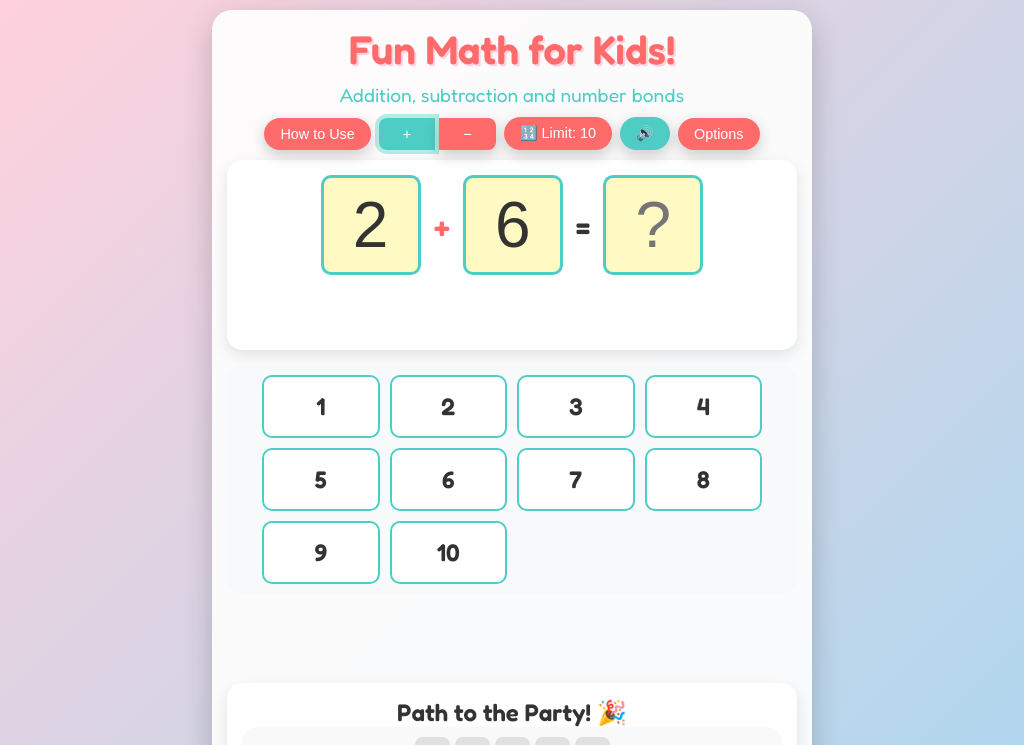
Scenario: App.vue › offers every limit preset in the popup
Click the button with class "action-btn" showing "🔢 Limit: 10". click: (558, 134)
box: [504, 117, 612, 150]
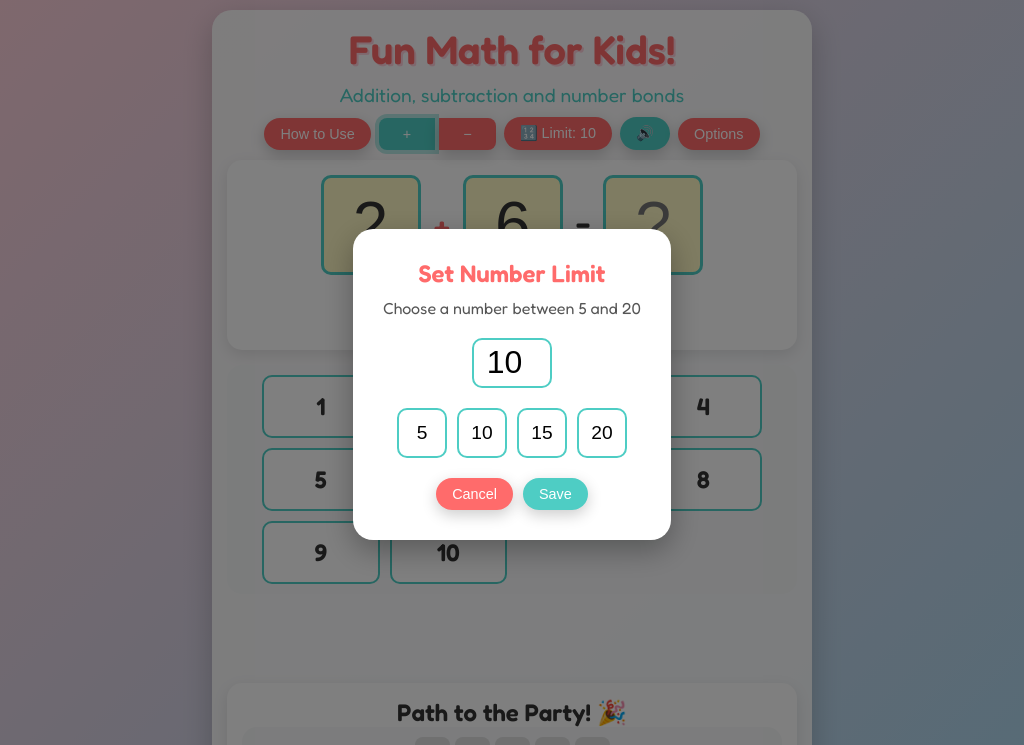
Check: the elements with class "limit-preset-btn" read "5", "10", "15", "20", in this order
Click the button with class "limit-preset-btn" showing "5". click: (422, 432)
box: [397, 408, 447, 458]
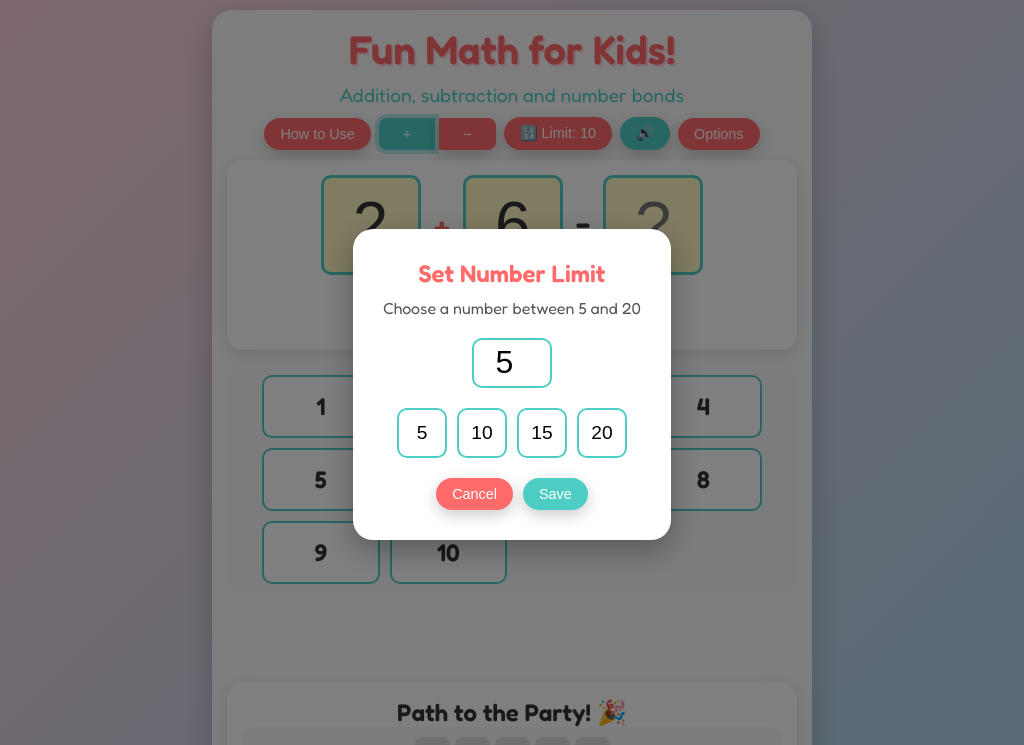
Check: the number field holds "5", box [472, 338, 552, 388]
Click the button with class "limit-preset-btn" showing "10". click: (482, 432)
box: [457, 408, 507, 458]
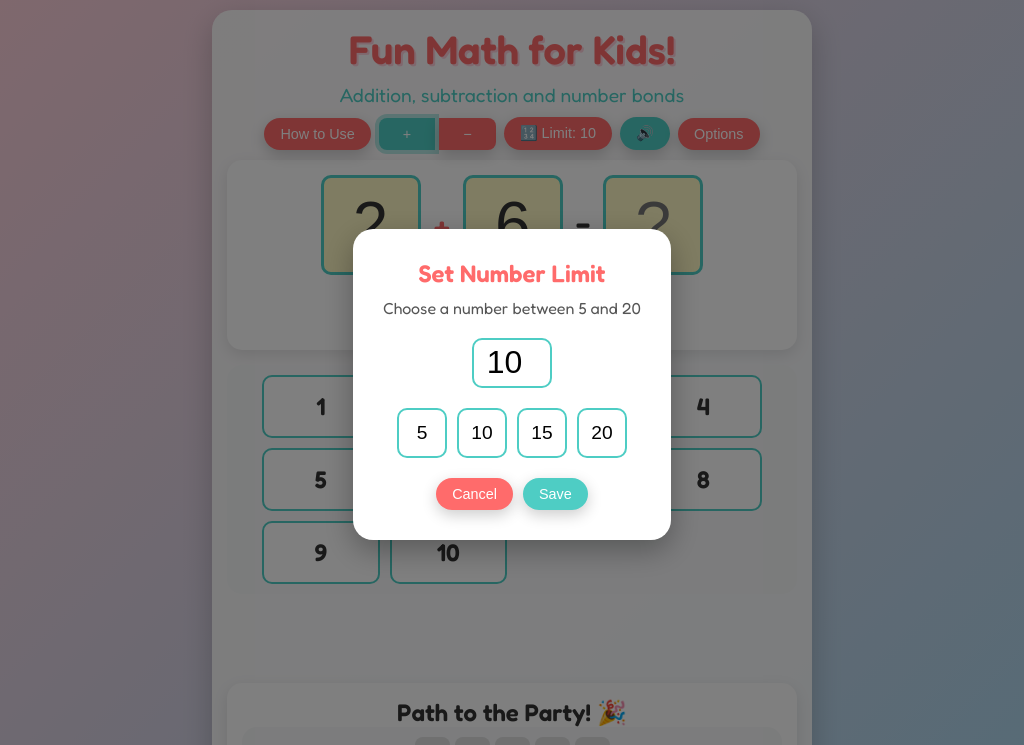
Check: the number field holds "10", box [472, 338, 552, 388]
Click the button with class "limit-preset-btn" showing "15". click: (542, 432)
box: [517, 408, 567, 458]
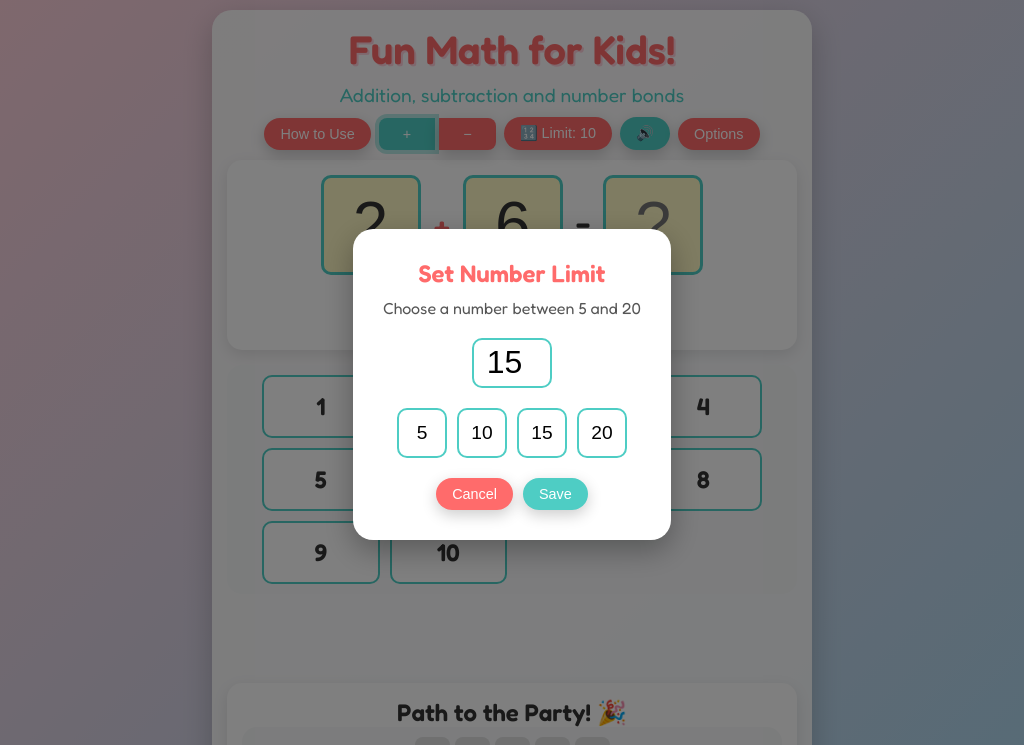
Check: the number field holds "15", box [472, 338, 552, 388]
Click the button with class "limit-preset-btn" showing "20". click: (602, 432)
box: [577, 408, 627, 458]
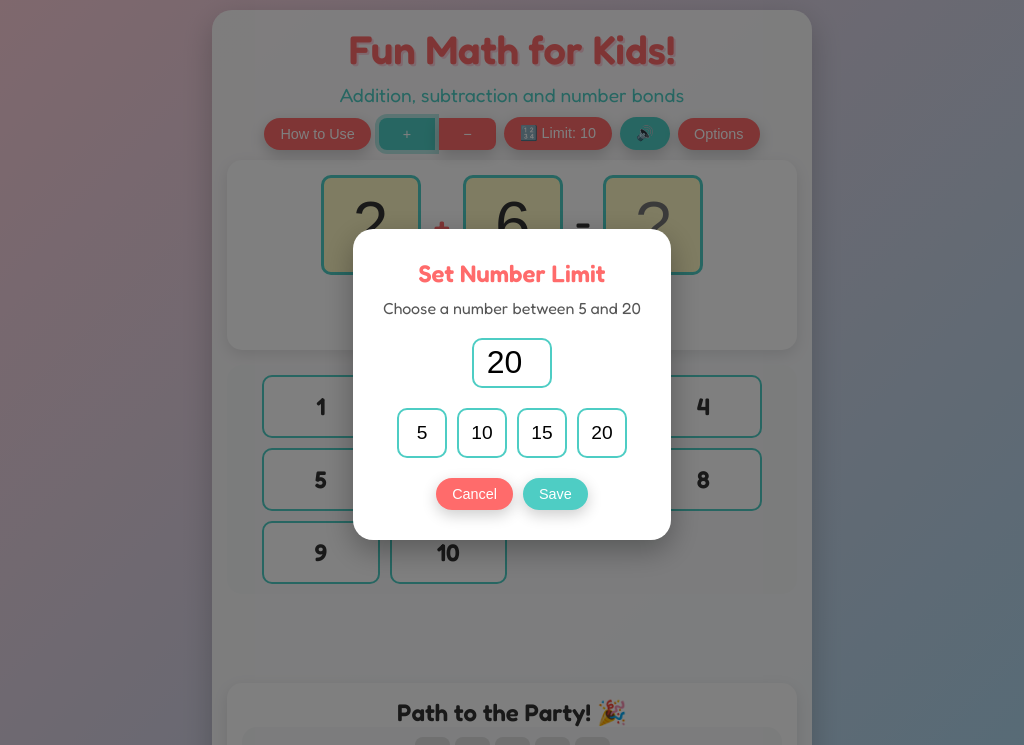
Check: the number field holds "20", box [472, 338, 552, 388]
